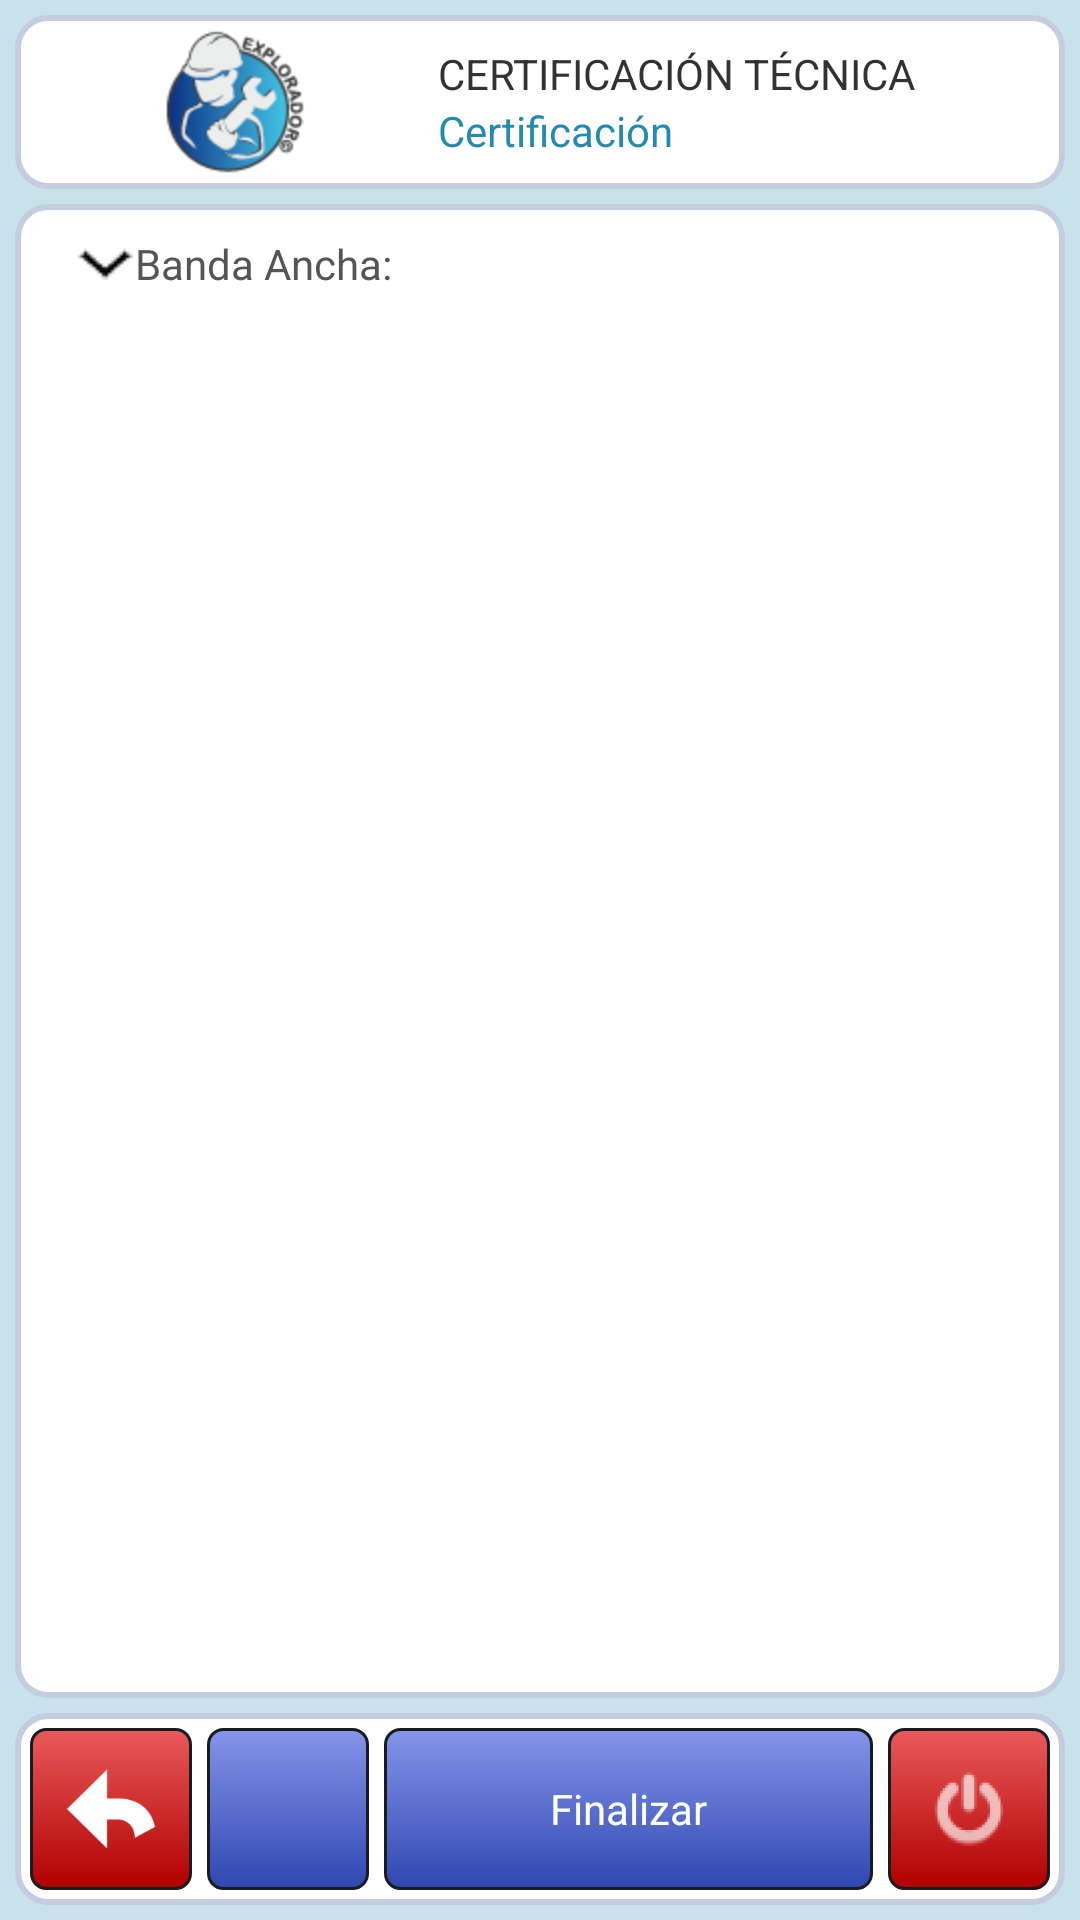

Point at icon controls on the screen. Image size 1080×1920, points as (x=x, y=y).
back: (x=111, y=1809)
shutdown: (x=969, y=1809)
